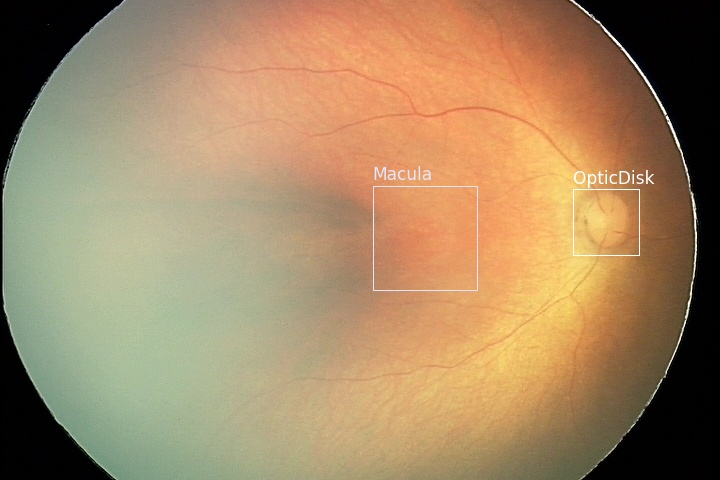Macula: (372, 185, 476, 289)
OpticDisk: (572, 188, 638, 254)
